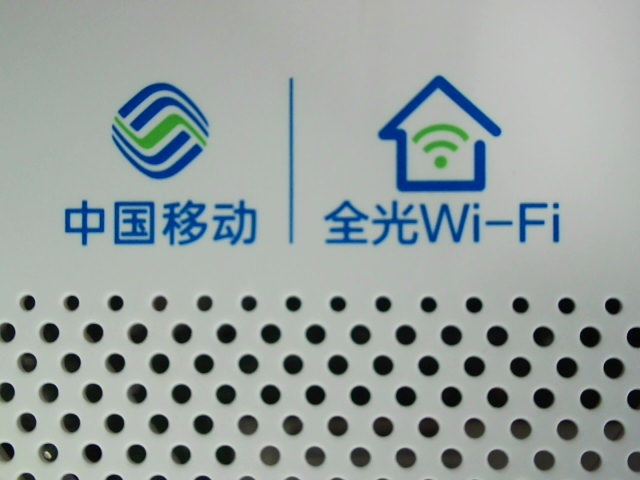BJ_QuanGuangMobile: (55, 70, 569, 261)
